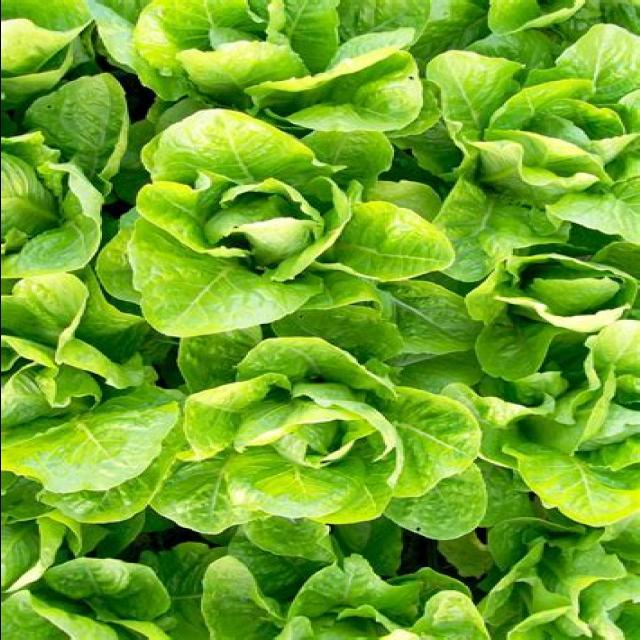Lettuce: (106, 102, 454, 364), (160, 329, 492, 574), (436, 17, 638, 270), (437, 192, 640, 419), (136, 0, 412, 147), (0, 270, 171, 483)
